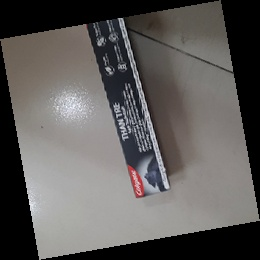Colgate Than: (84, 12, 172, 200)
